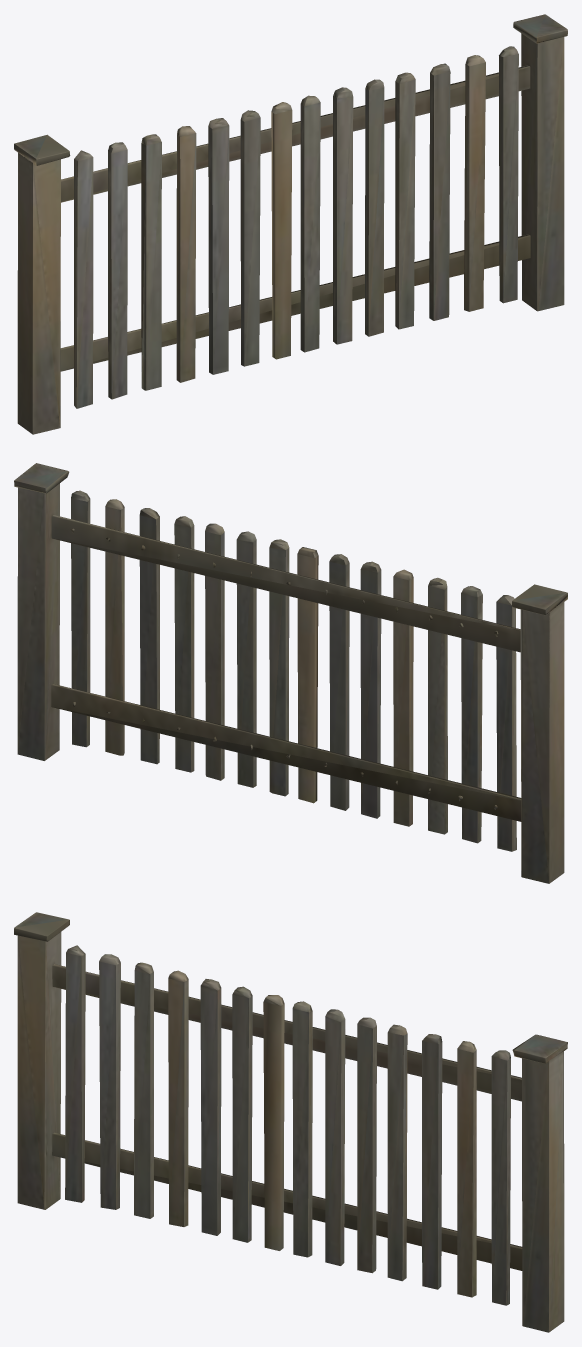
The model's file is fence.lod1.glb.
The picture shows the model from 3 angles, top to bottom: view 1: azimuth 30°, elevation 25°; view 2: azimuth 150°, elevation 25°; view 3: azimuth 330°, elevation 25°; orthographic projection.
Size of the model in its own units: 2 by 1 by 0.15.
Materials: 1 (1 with a texture image).
